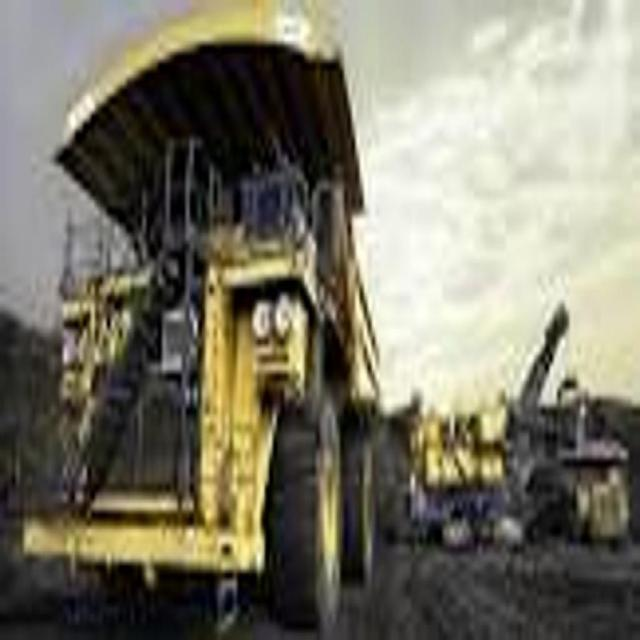dump_truck: (27, 3, 383, 640)
